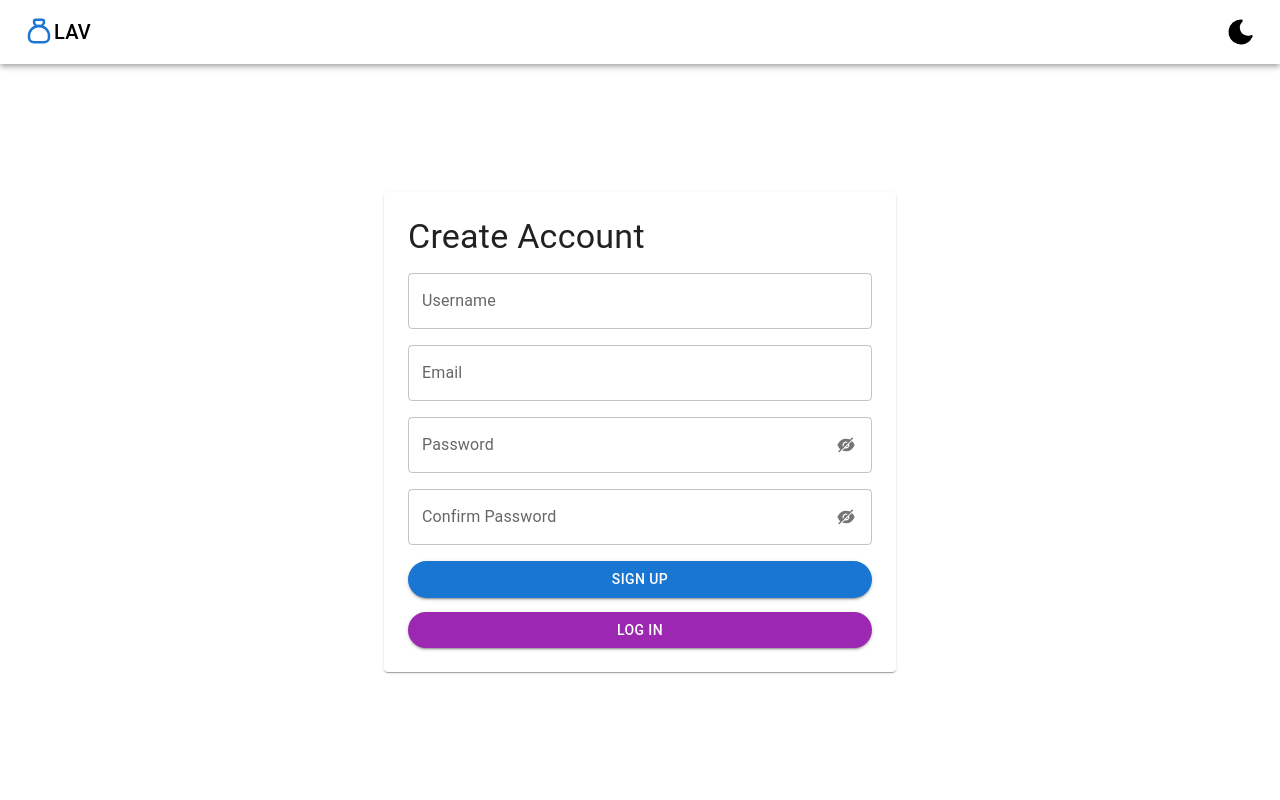
Signup Page › Password validation should work correctly
Type "aaaaaaaa" into the password field labelled "Password" at (615, 446), box left=408, top=418, right=822, bottom=474
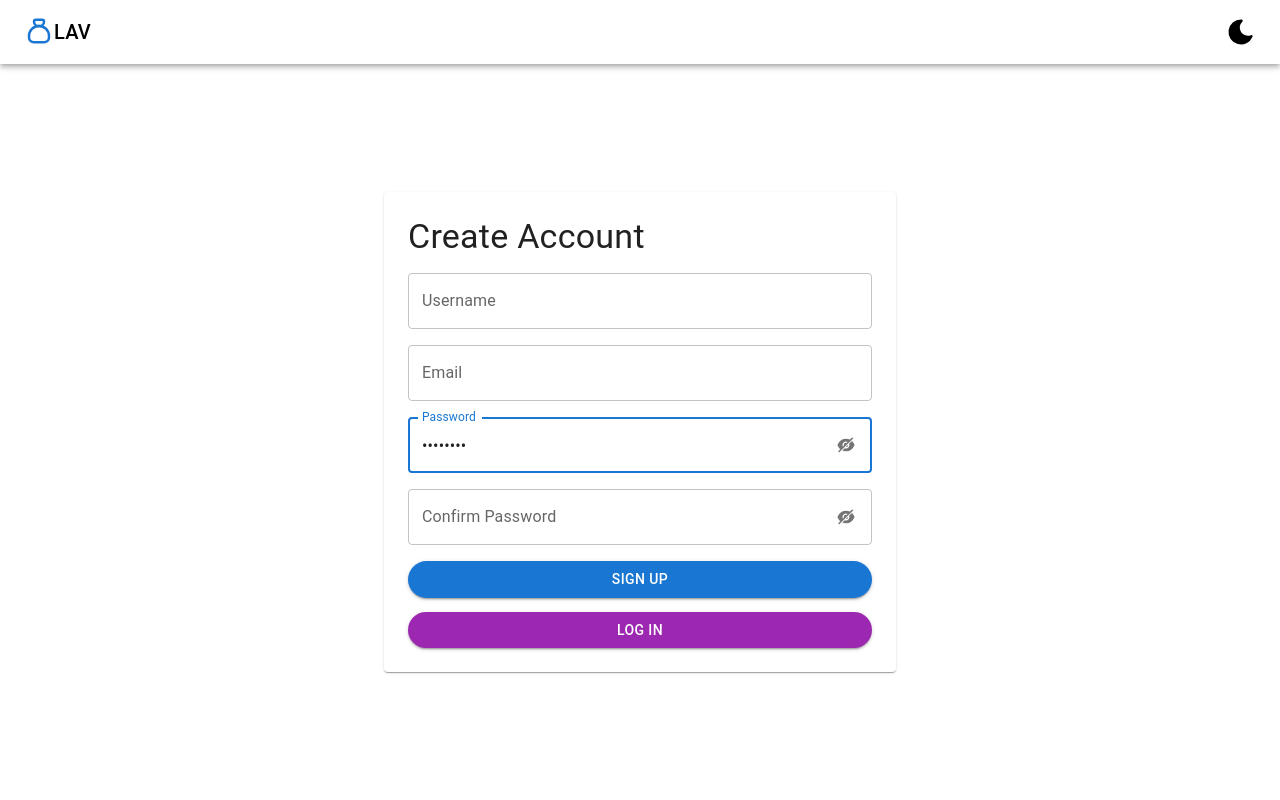
Click the button "Sign Up" at (640, 580), box left=408, top=562, right=872, bottom=598
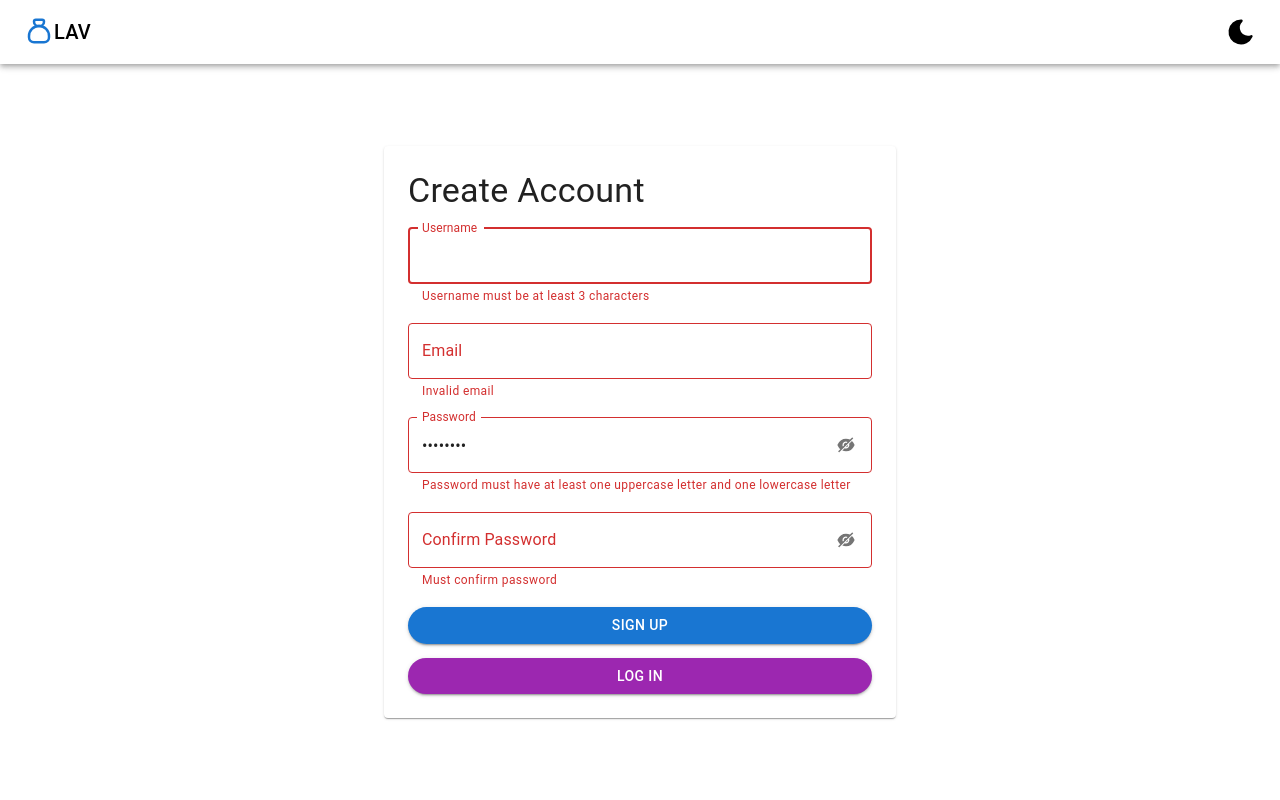
Expected: the text "Password must have at least one uppercase letter and one lowercase letter" is shown, left=422, top=476, right=858, bottom=496
Type "A" into the password field labelled "Password" at (615, 446), box left=408, top=418, right=822, bottom=474
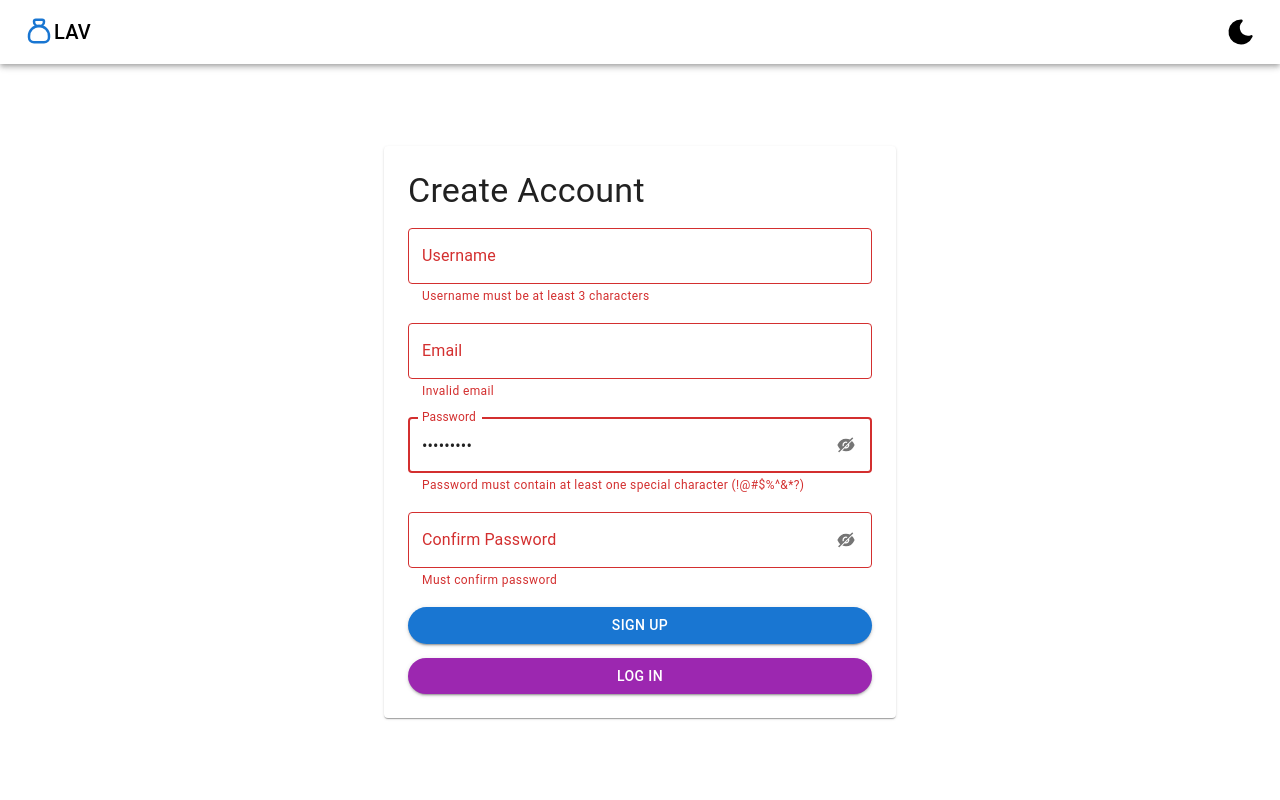
Expected: the text "Password must contain at least one special character (!@#$%^&*?)" is shown, left=422, top=476, right=858, bottom=496
